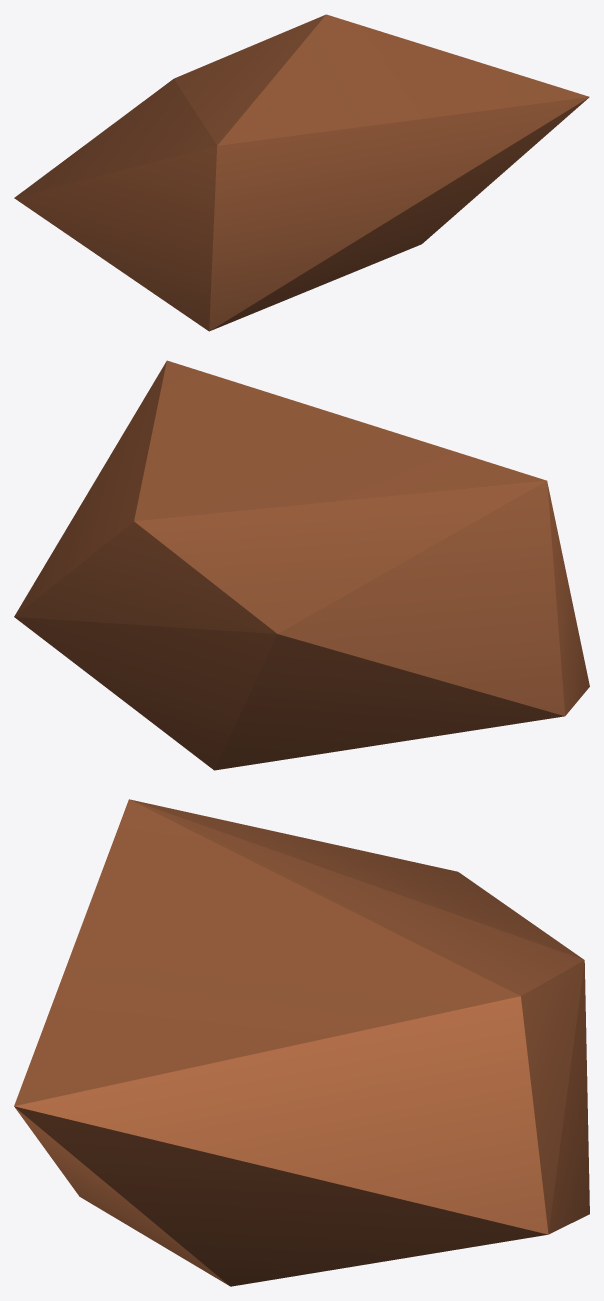
Rendered from copper-bacteria.glb.
3 views of the same model, one above another, from view 1: azimuth 30°, elevation 25°; view 2: azimuth 150°, elevation 25°; view 3: azimuth 270°, elevation 25° (orthographic). The views are drawn at different scales.
Visible parts, largest first — view 1: copper-bacteria; view 2: copper-bacteria; view 3: copper-bacteria.
Part boxes in pixels (bbox=[...]): copper-bacteria: bbox=[14, 14, 589, 331]; copper-bacteria: bbox=[14, 360, 589, 770]; copper-bacteria: bbox=[14, 799, 589, 1286].
Bounding box in the file's own units: 0.22 × 0.08 × 0.14.
